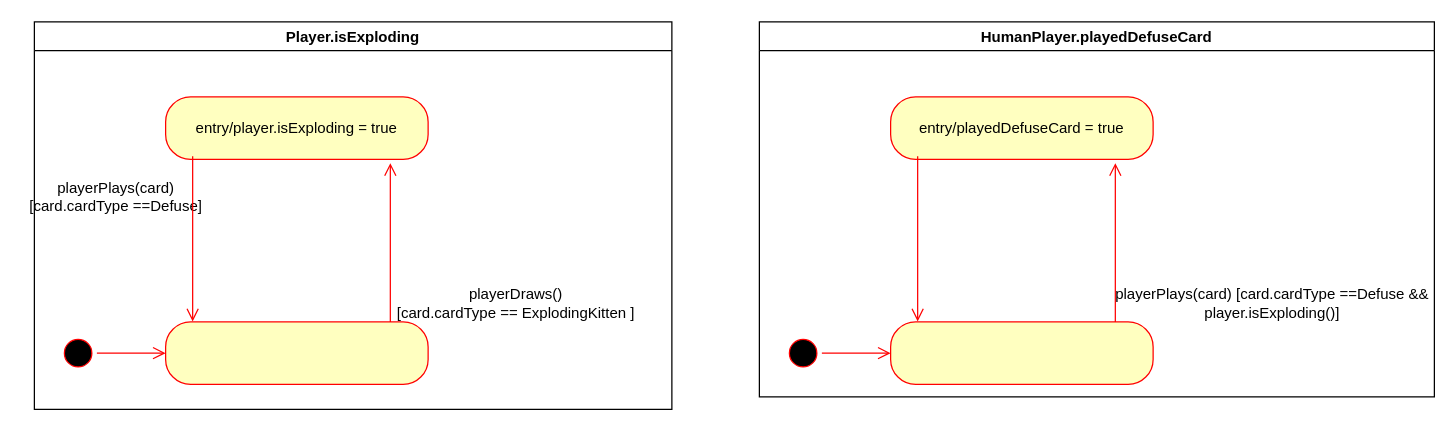
This 1456x431 diagram has some shape labels left out. The shapes that lost their labels are listed below. From the top down, each one's centre as x and y in pixels, then its label:
At [296,352]: "entry/player.isExploding = false".
At [1021,352]: "entry/playedDefuseCard = false".
